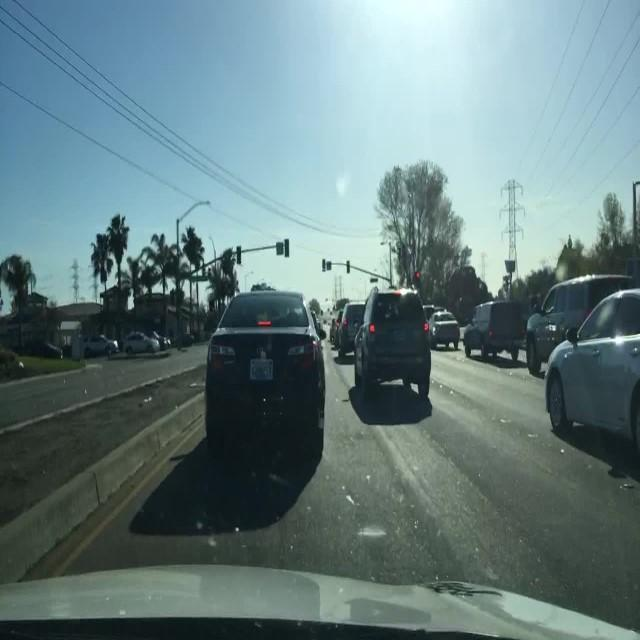normal: (173, 227, 640, 489)
